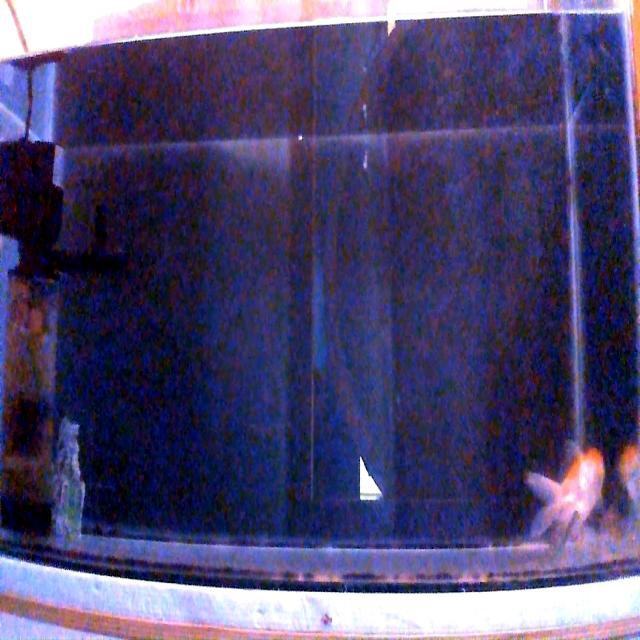fish: (524, 443, 606, 546), (619, 445, 640, 515)
